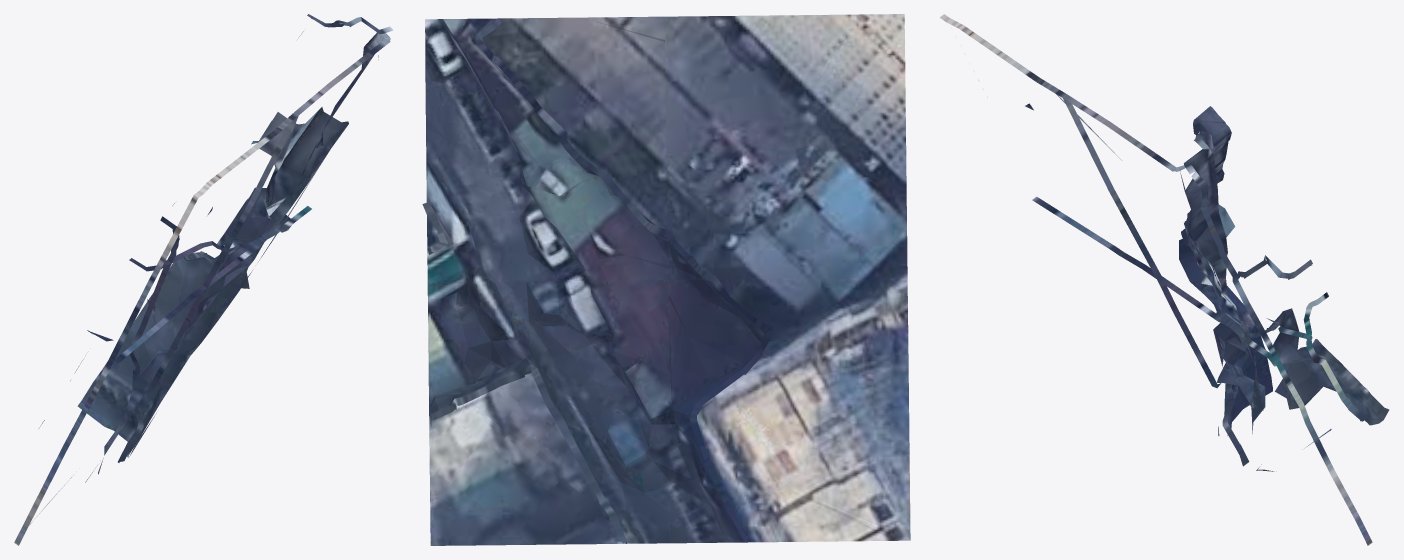
3 renders of one model, left to right at view 1: azimuth 30°, elevation 25°; view 2: azimuth 150°, elevation 25°; view 3: azimuth 270°, elevation 25°, orthographic. The views are drawn at different scales.
Bounding box in the file's own units: 37.79 × 37.29 × 33.94.
Materials: 1 (1 with a texture image).
